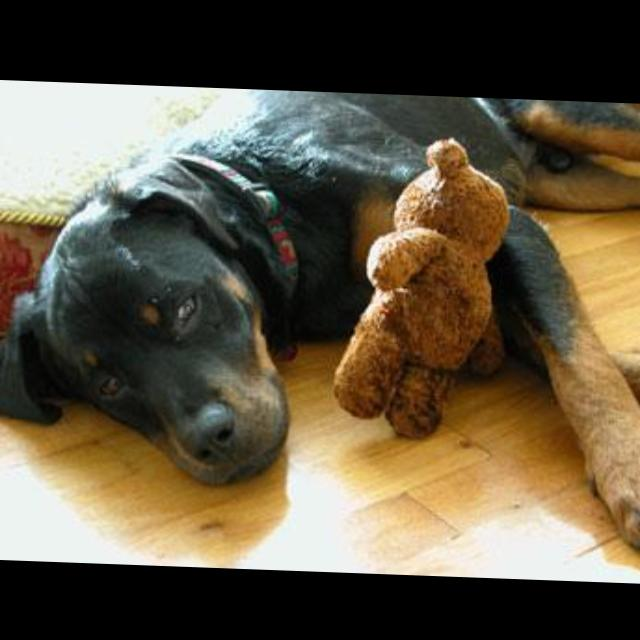rottweiler: (1, 81, 640, 546)
